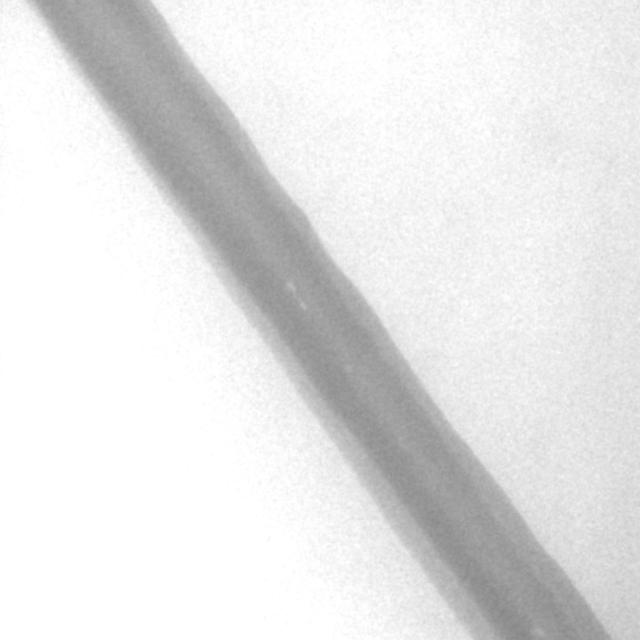air hole: (283, 279, 296, 296), (297, 299, 308, 314)
